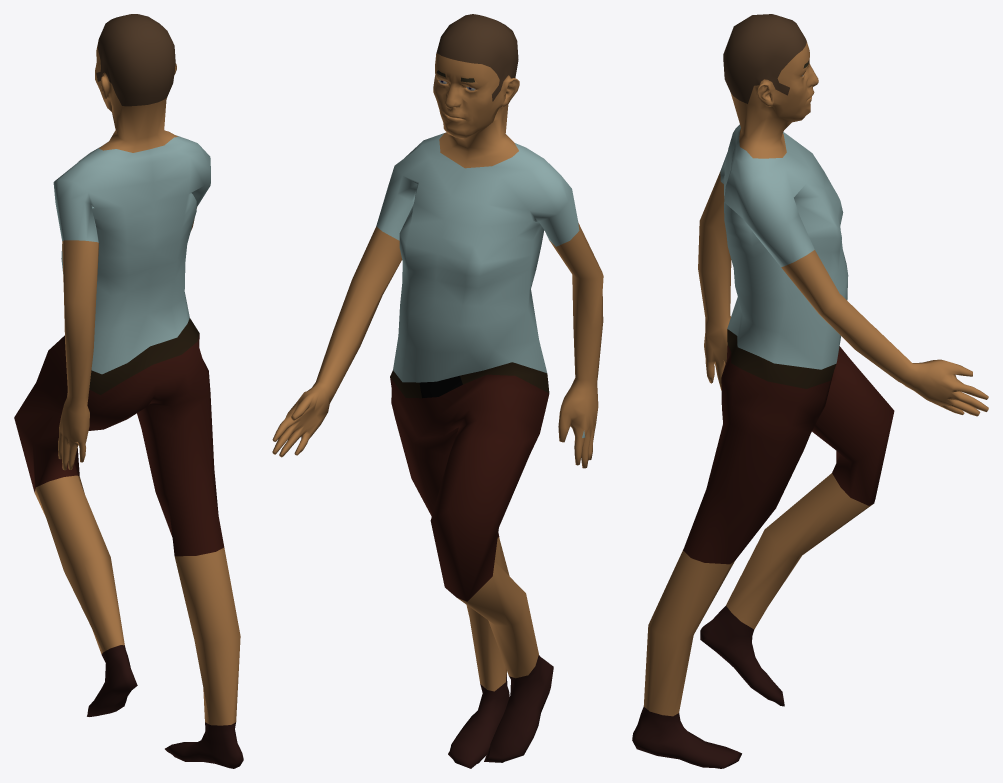
The model's file is person2_000008.obj.
The picture shows the model from 3 angles, left to right: view 1: azimuth 30°, elevation 25°; view 2: azimuth 150°, elevation 25°; view 3: azimuth 270°, elevation 25°; orthographic projection. The views are drawn at different scales.
Visible parts, largest first — view 1: Cube; view 2: Cube; view 3: Cube.
Part boxes in pixels (box(x1,y1,x2,y2)): Cube: box(14, 14, 243, 768); Cube: box(272, 14, 603, 768); Cube: box(632, 14, 988, 768).
Bounding box in the file's own units: 24.87 × 94.39 × 41.86.
